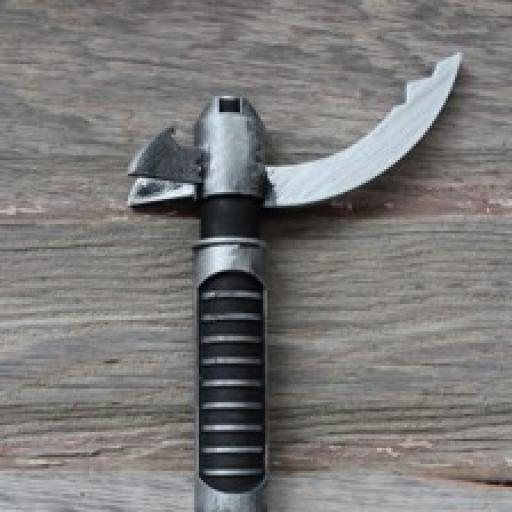lightsaber: (114, 52, 479, 512)
